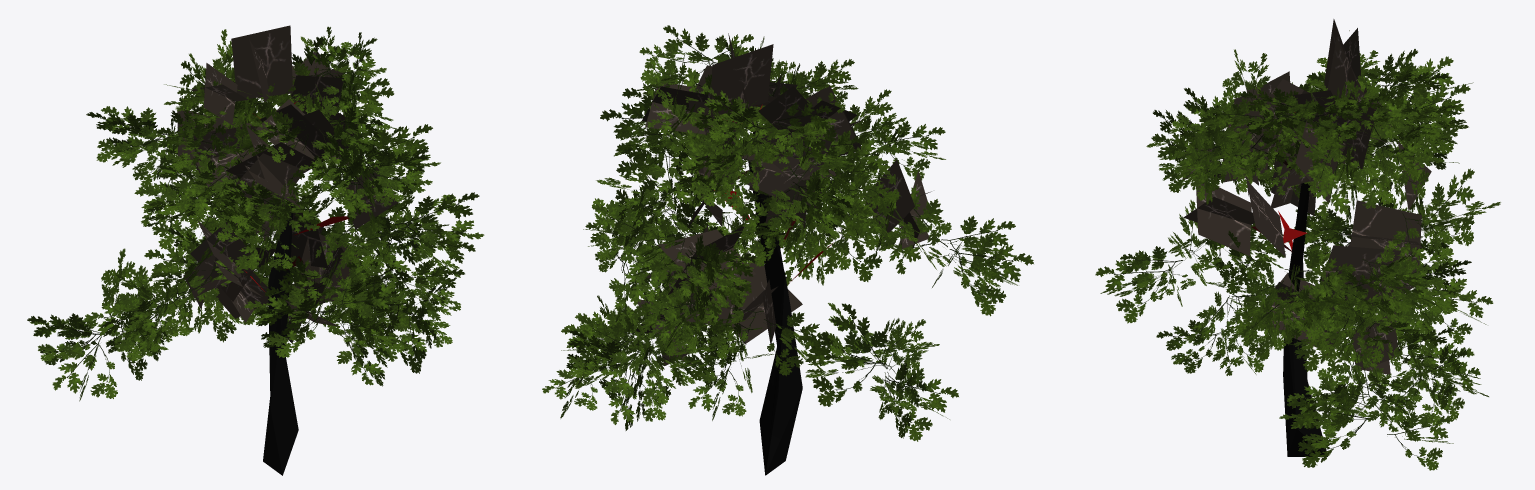
The model's file is maple3 lod2.FBX.
3 renders of one model, left to right at view 1: azimuth 30°, elevation 25°; view 2: azimuth 150°, elevation 25°; view 3: azimuth 270°, elevation 25°, orthographic. The views are drawn at different scales.
Parts seen in each view (by area): view 1: maple3_LOD2; view 2: maple3_LOD2; view 3: maple3_LOD2.
Boxes of the visible parts, bbox=[...] form: maple3_LOD2: bbox=[27, 25, 484, 475]; maple3_LOD2: bbox=[542, 25, 1033, 475]; maple3_LOD2: bbox=[1095, 19, 1500, 470].
Size of the model in its own units: 113498 by 110981 by 101657.
